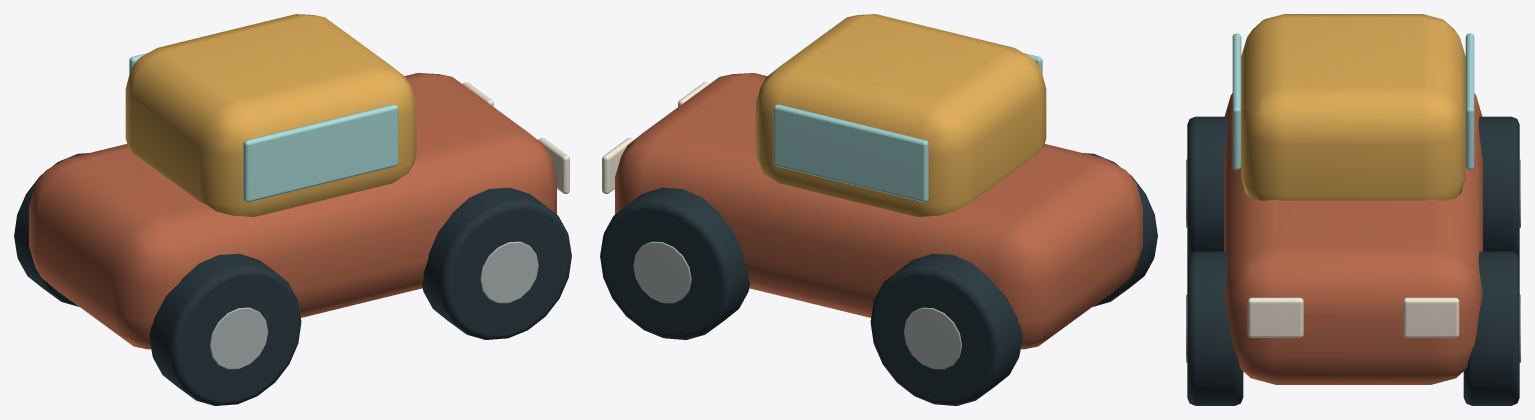
The model's file is ToyCar.fbx.
3 views of the same model, side by side, from view 1: azimuth 30°, elevation 25°; view 2: azimuth 150°, elevation 25°; view 3: azimuth 270°, elevation 25° (orthographic). The views are drawn at different scales.
Visible parts, largest first — view 1: Surface_KKTC_Terracotta, Surface_KKTC_Ochre, Surface_KKTC_Rubber, Surface_KKTC_Lens, Surface_KKTC_Metal, Surface_KKTC_WarmWhite; view 2: Surface_KKTC_Terracotta, Surface_KKTC_Ochre, Surface_KKTC_Rubber, Surface_KKTC_Lens, Surface_KKTC_Metal, Surface_KKTC_WarmWhite; view 3: Surface_KKTC_Terracotta, Surface_KKTC_Ochre, Surface_KKTC_Rubber, Surface_KKTC_WarmWhite, Surface_KKTC_Lens, Surface_KKTC_Metal.
Part boxes in pixels (x1,y1,x2,y2): Surface_KKTC_Terracotta: (29, 73, 556, 349); Surface_KKTC_Ochre: (125, 14, 416, 216); Surface_KKTC_Rubber: (14, 153, 571, 405); Surface_KKTC_Lens: (129, 53, 398, 202); Surface_KKTC_Metal: (210, 241, 538, 369); Surface_KKTC_WarmWhite: (463, 82, 569, 193); Surface_KKTC_Terracotta: (615, 73, 1142, 349); Surface_KKTC_Ochre: (755, 14, 1046, 216); Surface_KKTC_Rubber: (600, 153, 1157, 405); Surface_KKTC_Lens: (773, 53, 1042, 202); Surface_KKTC_Metal: (633, 241, 961, 369); Surface_KKTC_WarmWhite: (602, 82, 708, 193); Surface_KKTC_Terracotta: (1224, 93, 1482, 384); Surface_KKTC_Ochre: (1241, 14, 1465, 200); Surface_KKTC_Rubber: (1187, 116, 1519, 405); Surface_KKTC_WarmWhite: (1247, 297, 1459, 337); Surface_KKTC_Lens: (1232, 33, 1474, 170); Surface_KKTC_Metal: (1186, 159, 1520, 362).
Bounding box in the file's own units: 12.2 × 6.85 × 7.75.
